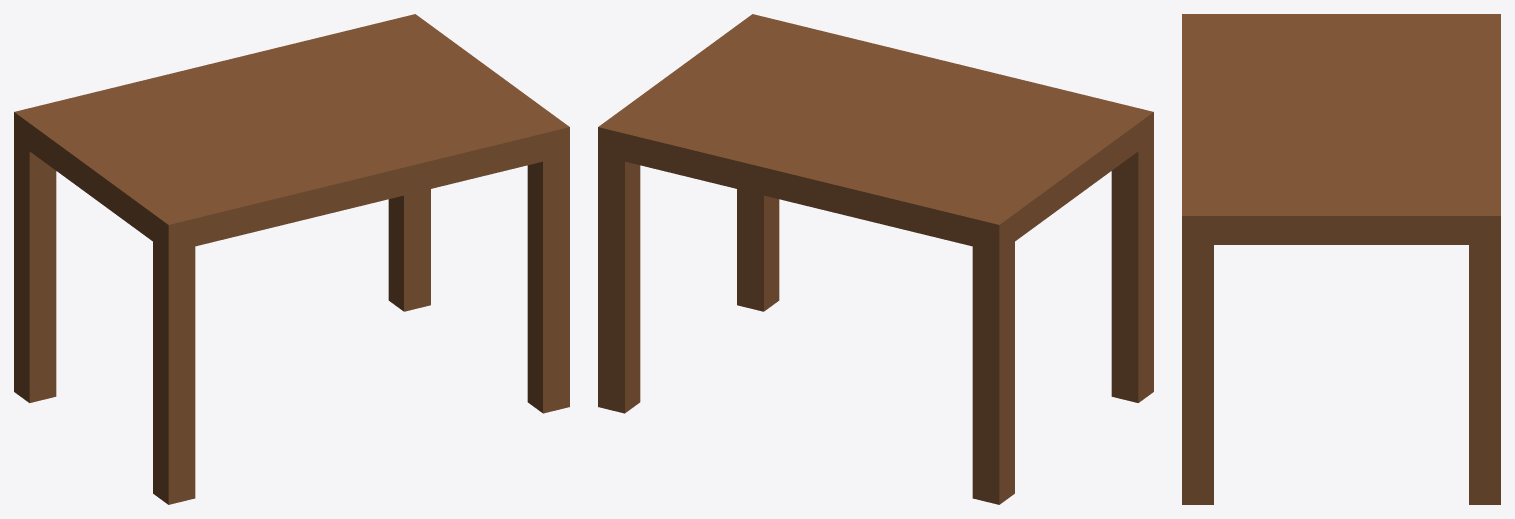
The model's file is table.glb.
The picture shows the model from 3 angles, left to right: view 1: azimuth 30°, elevation 25°; view 2: azimuth 150°, elevation 25°; view 3: azimuth 270°, elevation 25°; orthographic projection. The views are drawn at different scales.
Visible parts, largest first — view 1: table; view 2: table; view 3: table.
Boxes of the visible parts, x1,y1,x2,y2 form: table: (14,14,569,504); table: (598,14,1153,504); table: (1182,14,1500,504).
Bounding box in the file's own units: 1.2 × 0.8 × 0.8.
